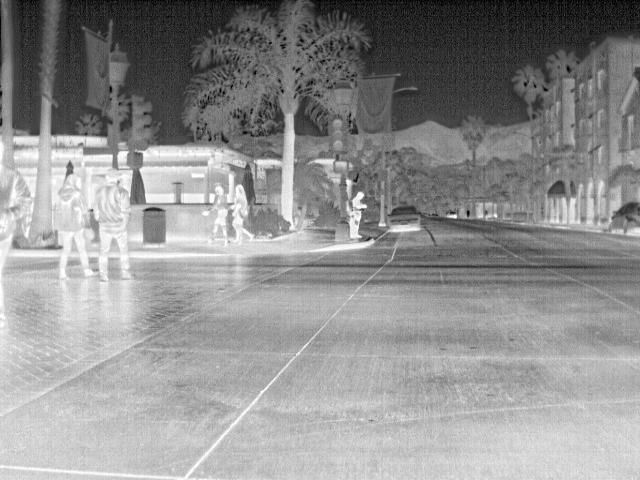car: (605, 202, 640, 236), (388, 206, 421, 234)
person: (95, 167, 141, 283), (55, 175, 97, 283), (3, 138, 31, 270), (202, 183, 232, 246), (230, 184, 259, 243), (352, 191, 370, 239)
